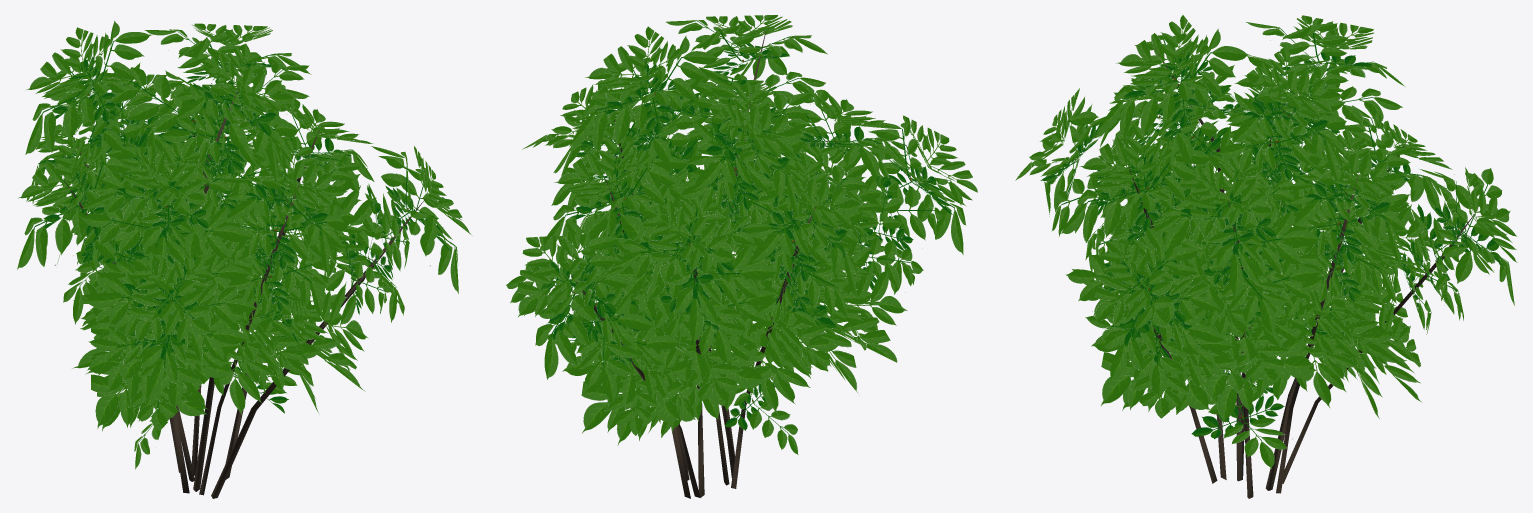
Rendered from PT_Elderberry_02.fbx.
3 renders of one model, left to right at view 1: azimuth 30°, elevation 25°; view 2: azimuth 150°, elevation 25°; view 3: azimuth 270°, elevation 25°, orthographic.
Visible parts, largest first — view 1: PT_Elderberry_02_LOD0; view 2: PT_Elderberry_02_LOD0; view 3: PT_Elderberry_02_LOD0.
Boxes of the visible parts, x1,y1,x2,y2 form: PT_Elderberry_02_LOD0: (17,20,472,498); PT_Elderberry_02_LOD0: (506,15,977,498); PT_Elderberry_02_LOD0: (1015,15,1517,498).
Size of what is drawn, in the model's own units: 298 by 331 by 330.
